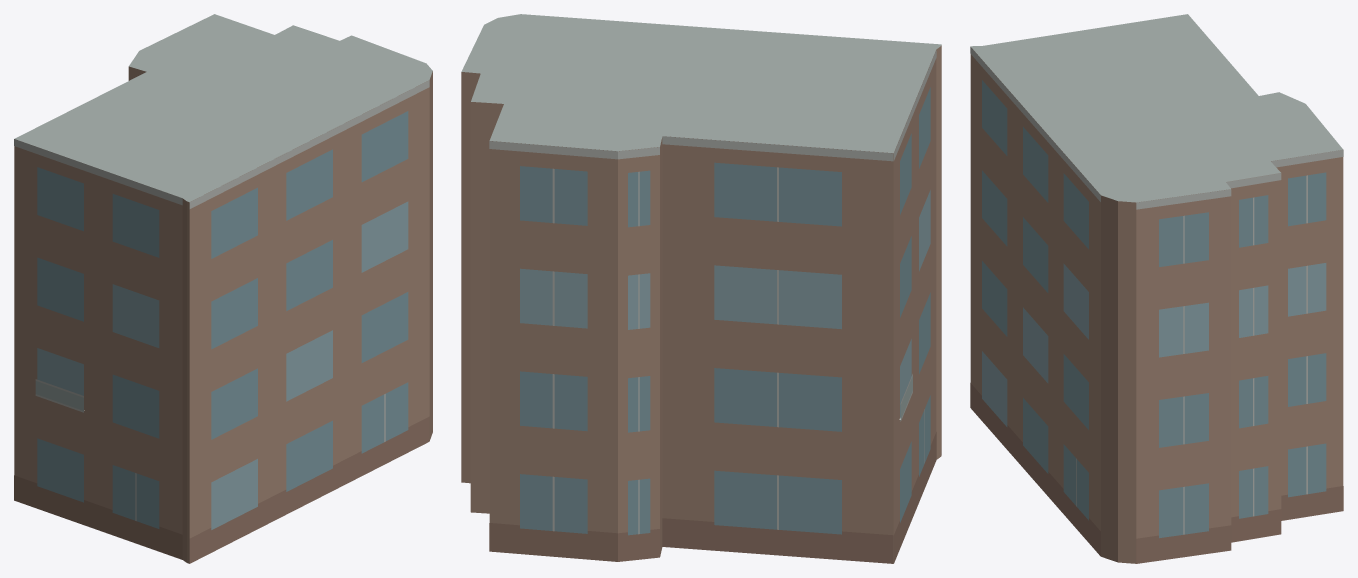
Rendered from survey-upis-32474688.glb.
The picture shows the model from 3 angles, left to right: view 1: azimuth 30°, elevation 25°; view 2: azimuth 150°, elevation 25°; view 3: azimuth 270°, elevation 25°; orthographic projection. The views are drawn at different scales.
Visible parts, largest first — view 1: survey-upis-32474688.tmp; view 2: survey-upis-32474688.tmp; view 3: survey-upis-32474688.tmp.
Boxes of the visible parts, x1=… form: survey-upis-32474688.tmp: x1=14, y1=14, x2=432, y2=563; survey-upis-32474688.tmp: x1=461, y1=14, x2=941, y2=563; survey-upis-32474688.tmp: x1=970, y1=14, x2=1343, y2=563.
Bounding box in the file's own units: 13.77 × 12.3 × 11.51.
